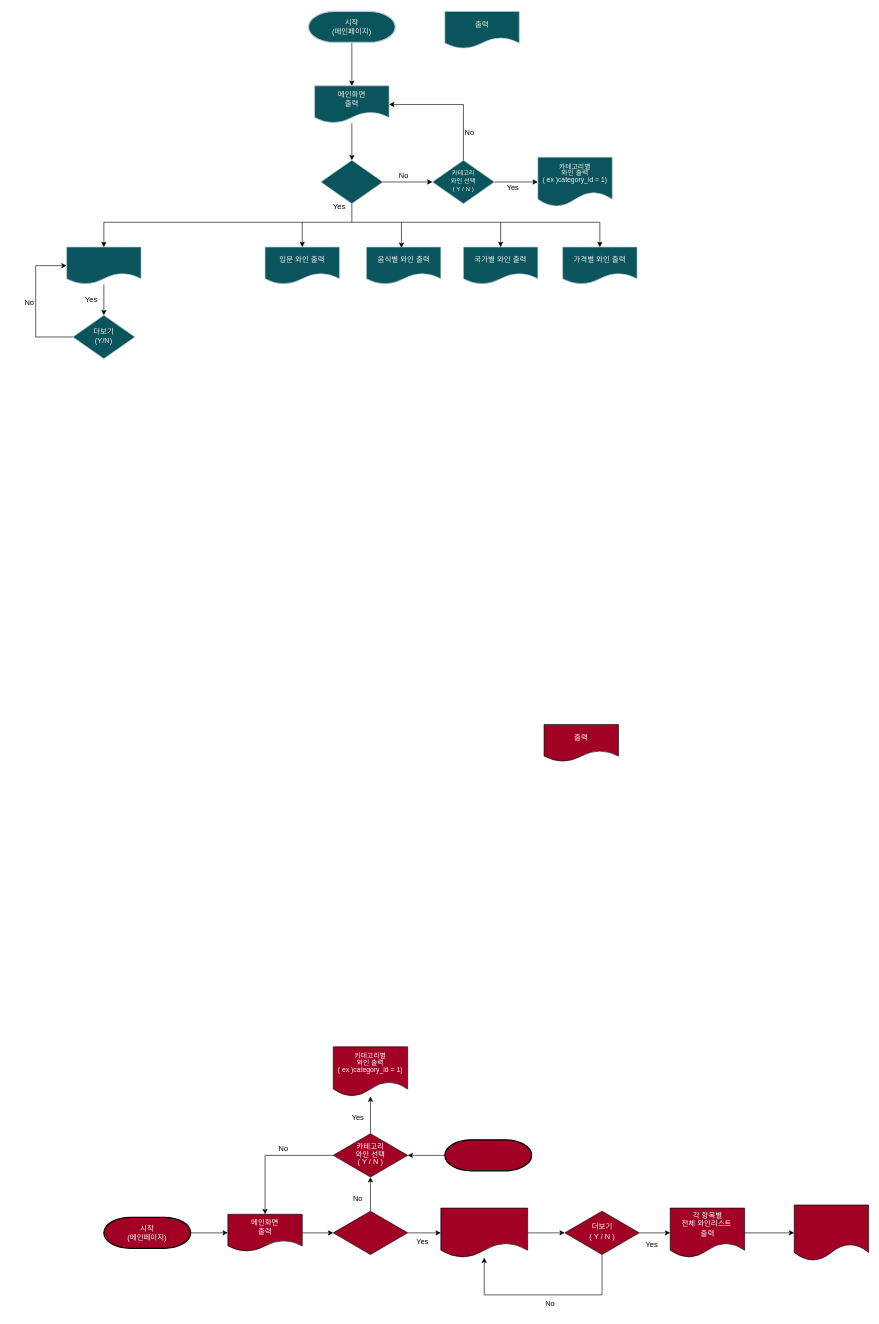
This 879x1324 diagram has some shape labels left out. The shapes that lost their labels are listed below. From the top down, each one's centre as x and y in pixels, then its label:
At point (351, 182): "로그인 ( Y / N )".
At point (103, 265): "카테고리별 와인 출력".
At point (488, 1155): "네비게이션바 (메인페이지)".
At point (370, 1233): "로그인 (userId 받음)".
At point (484, 1232): "카테고리별, 입문추천,음식별,국가별,가격별 추천와인 출력".
At point (831, 1232): "최신등록순, 높은금액순, 낮은금액순별 출력".
